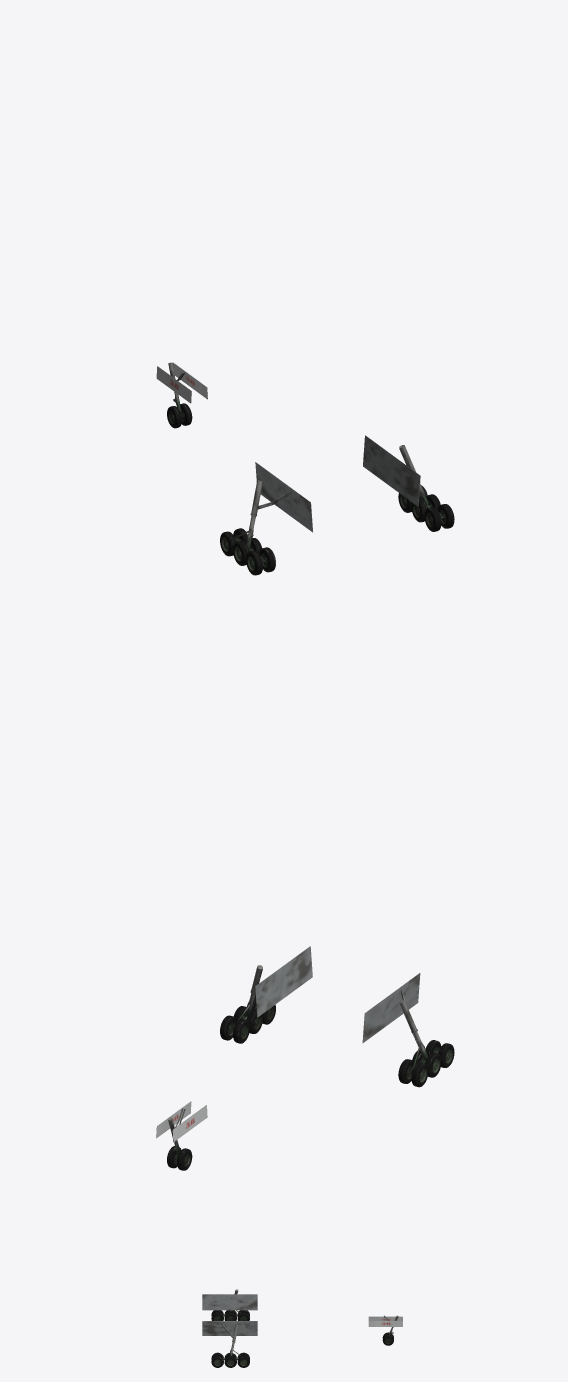
File: e_tu22m2_gear.glb
3 renders of one model, top to bottom at view 1: azimuth 30°, elevation 25°; view 2: azimuth 150°, elevation 25°; view 3: azimuth 270°, elevation 25°, orthographic. The views are drawn at different scales.
Visible parts, largest first — view 1: body|M2_paint; view 2: body|M2_paint; view 3: body|M2_paint.
Part boxes in pixels (x1,y1,x2,y2): body|M2_paint: (156,362,454,575); body|M2_paint: (156,946,454,1170); body|M2_paint: (202,1289,402,1367).
Bounding box in the file's own units: 9.2 × 12.9 × 43.5.
Materials: 1 (1 with a texture image).
